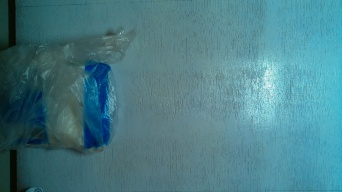m: (4, 42, 120, 158)
